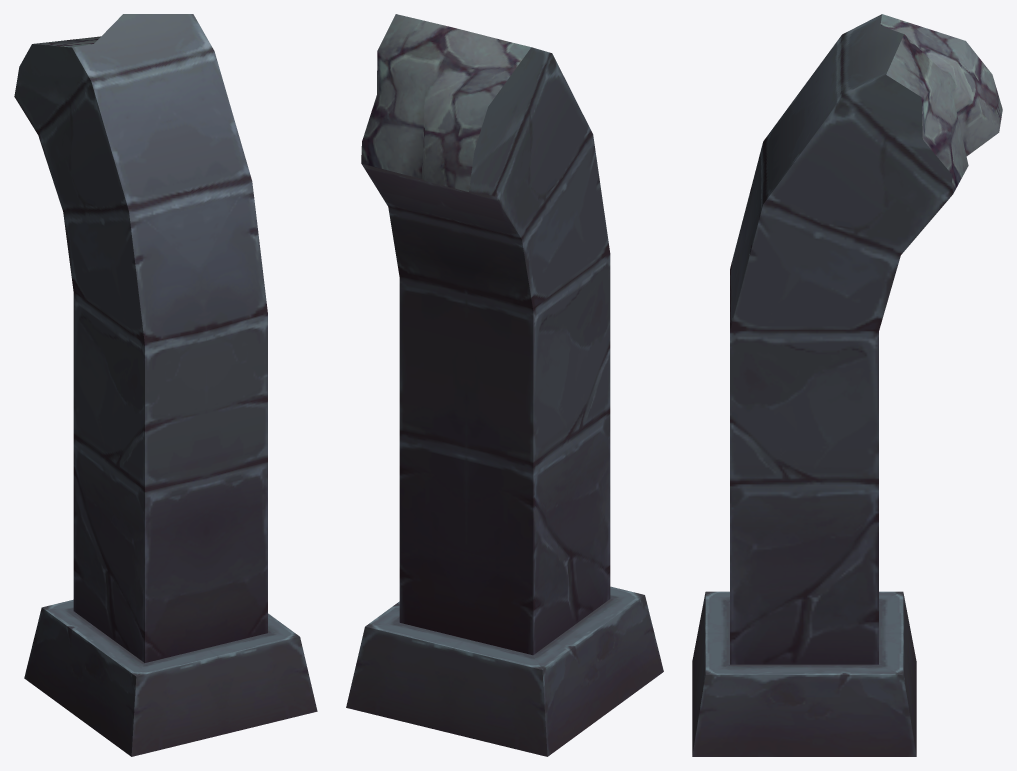
The model's file is huoshan_stone_05.FBX.
3 renders of one model, left to right at view 1: azimuth 30°, elevation 25°; view 2: azimuth 150°, elevation 25°; view 3: azimuth 270°, elevation 25°, orthographic. The views are drawn at different scales.
Parts seen in each view (by area): view 1: huoshan_stone_05; view 2: huoshan_stone_05; view 3: huoshan_stone_05.
Boxes of the visible parts, bbox=[...] form: huoshan_stone_05: bbox=[14, 14, 317, 756]; huoshan_stone_05: bbox=[346, 14, 663, 756]; huoshan_stone_05: bbox=[692, 14, 1002, 756].
Size of the model in its own units: 454 by 1507 by 628.
